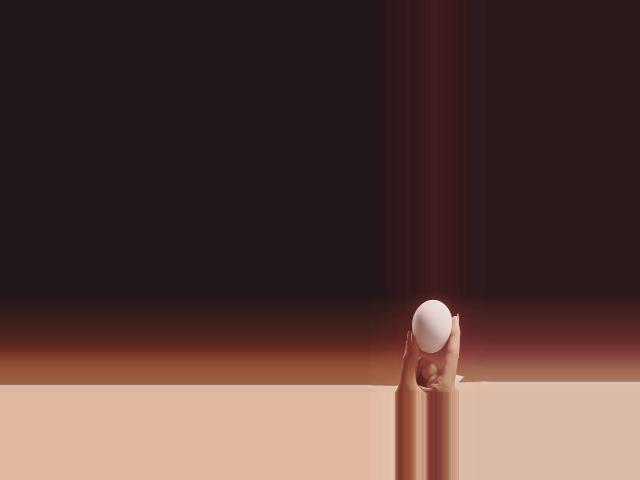egg: (411, 299, 452, 353)
